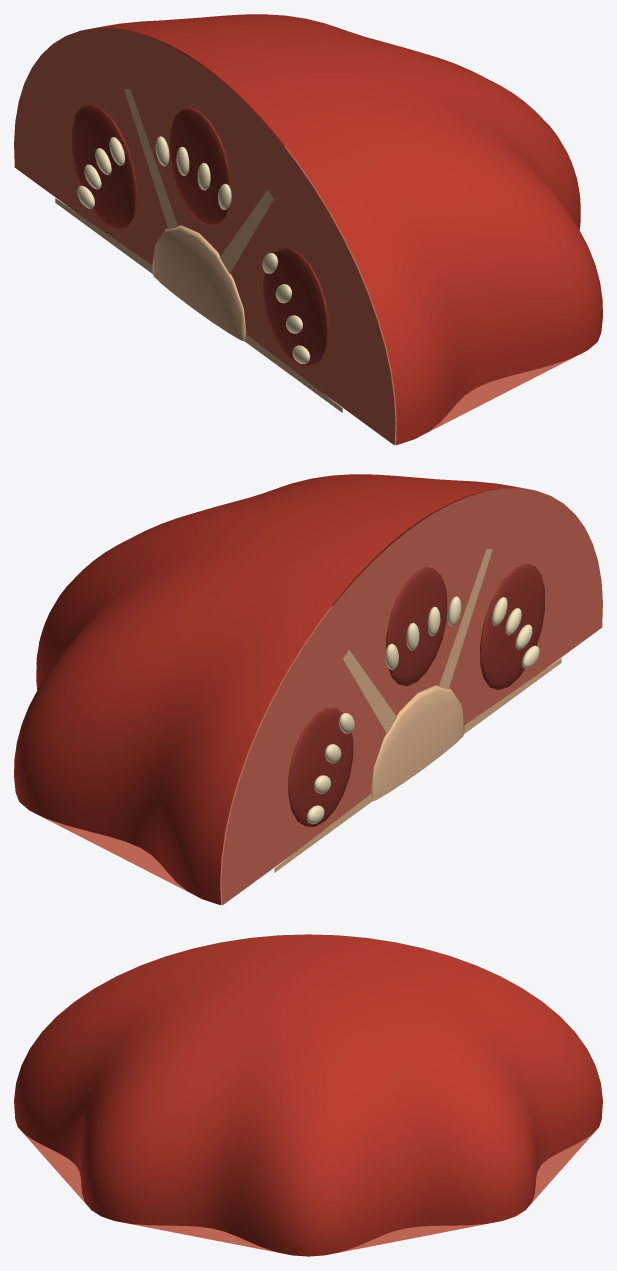
Rendered from beefsteak_wedge.glb.
The picture shows the model from 3 angles, top to bottom: view 1: azimuth 30°, elevation 25°; view 2: azimuth 150°, elevation 25°; view 3: azimuth 270°, elevation 25°; orthographic projection. The views are drawn at different scales.
Parts seen in each view (by area): view 1: Prepared Beefsteak half, Thick six-chamber Beefsteak flesh, Six unequal Beefsteak gel pockets, Broad Beefsteak central pith, Broad six-way Beefsteak septum, Modeled plump Beefsteak seed; view 2: Prepared Beefsteak half, Thick six-chamber Beefsteak flesh, Six unequal Beefsteak gel pockets, Broad Beefsteak central pith, Broad six-way Beefsteak septum, Modeled plump Beefsteak seed; view 3: Prepared Beefsteak half, Thick six-chamber Beefsteak flesh.
Part boxes in pixels (x1,y1,x2,y2): Prepared Beefsteak half: (83,14,602,445); Thick six-chamber Beefsteak flesh: (14,28,395,445); Six unequal Beefsteak gel pockets: (72,104,328,366); Broad Beefsteak central pith: (152,225,246,341); Broad six-way Beefsteak septum: (55,89,342,412); Modeled plump Beefsteak seed: (77,136,310,364); Prepared Beefsteak half: (14,474,533,905); Thick six-chamber Beefsteak flesh: (221,488,602,905); Six unequal Beefsteak gel pockets: (288,564,544,826); Broad Beefsteak central pith: (370,685,464,801); Broad six-way Beefsteak septum: (274,549,561,872); Modeled plump Beefsteak seed: (306,596,539,824); Prepared Beefsteak half: (14,935,602,1256); Thick six-chamber Beefsteak flesh: (14,934,602,1099).
Size of the model in its own units: 0.9378 by 0.56 by 1.62.
